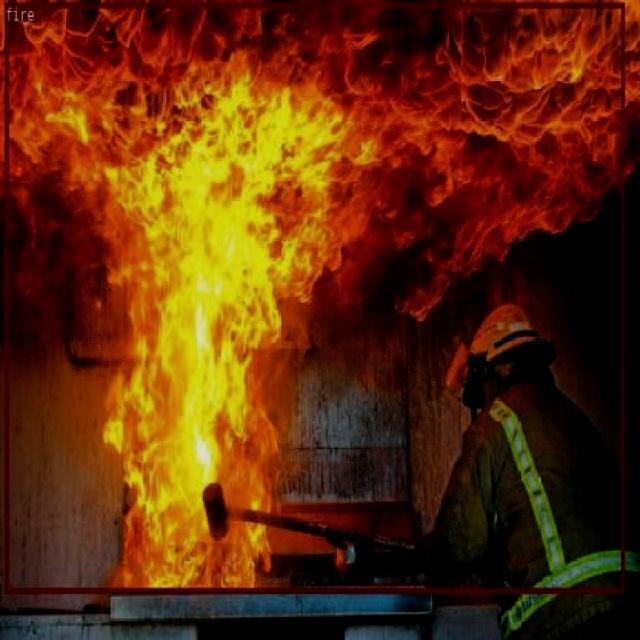fire: (4, 1, 624, 592)
